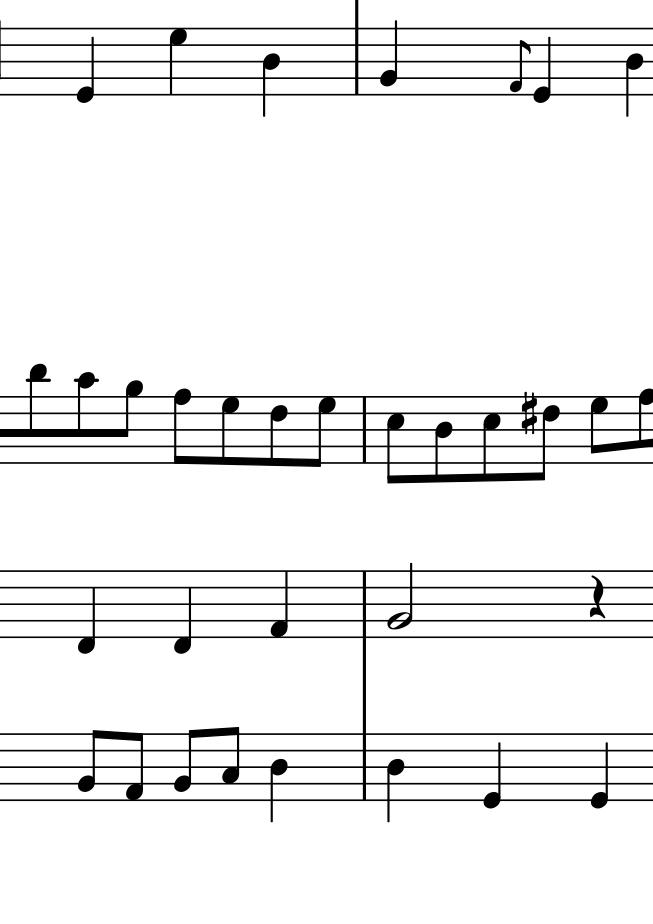2_2: (385, 561, 415, 639)
4_-1: (73, 568, 98, 656), (170, 568, 193, 655)
4_0: (72, 25, 97, 106), (587, 731, 611, 811), (532, 26, 555, 106), (482, 731, 504, 810)
4_1: (268, 569, 290, 639)
4_2: (377, 18, 400, 98)
4_4: (623, 26, 645, 119), (385, 733, 407, 824), (260, 27, 281, 119), (268, 733, 289, 823)
4_7: (166, 26, 189, 97)
8_1: (123, 730, 145, 804)
8_10: (73, 371, 97, 467)
8_11: (25, 363, 49, 466)
8_2: (76, 728, 104, 802), (171, 728, 199, 802)
8_3: (220, 725, 240, 802)
8_4: (432, 394, 455, 485)
8_5: (384, 395, 406, 487), (480, 394, 502, 484)
8_6: (531, 395, 563, 483), (268, 394, 289, 469)
8_7: (307, 394, 337, 469), (219, 395, 241, 467), (588, 394, 610, 465)
8_8: (171, 387, 194, 467), (636, 388, 653, 466)
8_9: (116, 380, 144, 466)
Rests4: (587, 573, 607, 621)
Sharp: (519, 389, 539, 436)
Single_barline: (356, 571, 373, 639), (356, 732, 373, 800), (349, 29, 365, 93), (357, 396, 372, 462)
